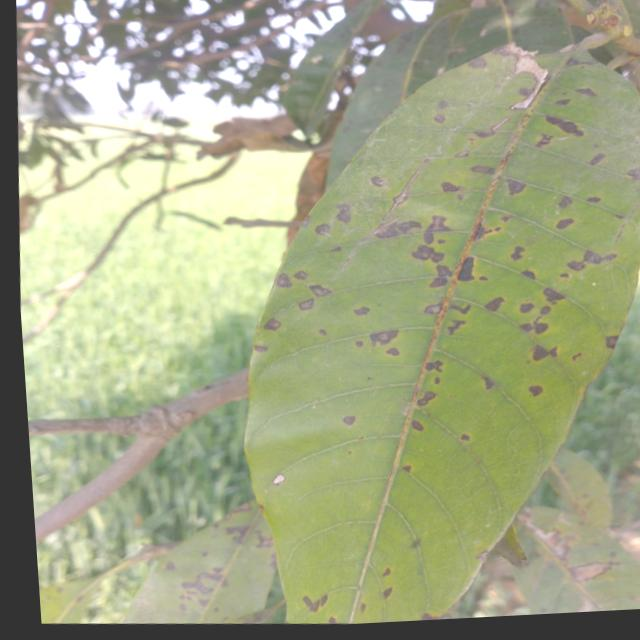Anthracnose: (402, 134, 593, 399), (313, 200, 421, 251)
